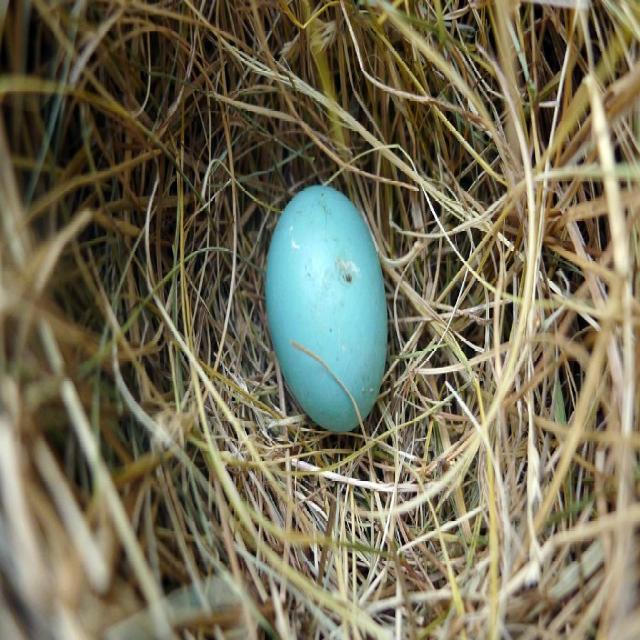Egg: (263, 184, 386, 432)
